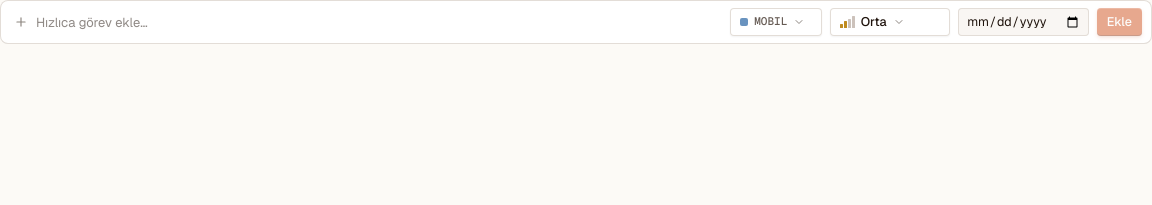
Test: MTQuickAdd › selecting the Düşük option updates the active priority
This screenshot has width=1152, height=205.
Note: Initial active priority is medium → trigger labelled "Öncelik: Orta".
Click the button with aria-label "Öncelik: Orta": coordinates (890, 22) top-left (830, 8), bottom-right (950, 36)
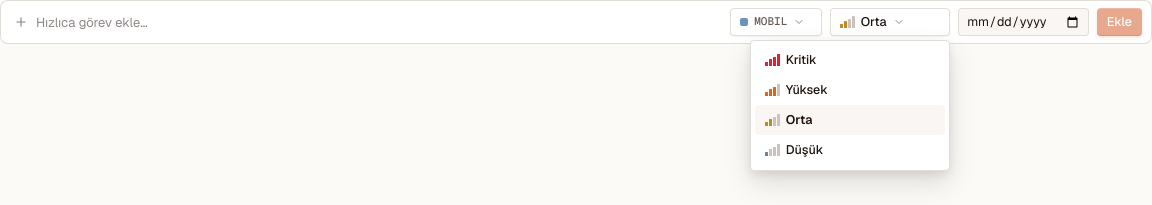
Click the option "Düşük": coordinates (850, 150) top-left (755, 135), bottom-right (945, 166)
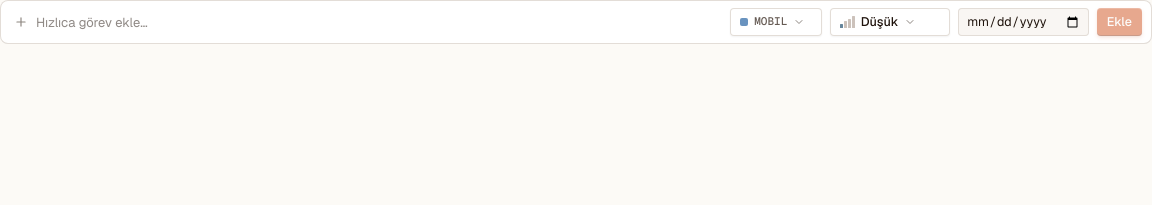
Now the button with aria-label "Öncelik: Düşük" is shown, box top-left (830, 8), bottom-right (950, 36)
